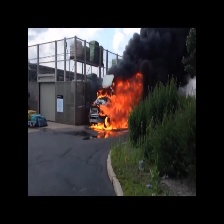fire: (86, 69, 150, 132)
